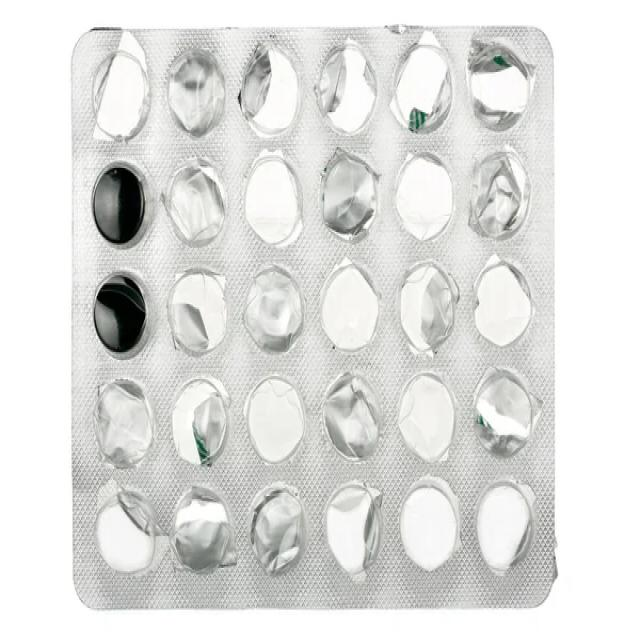Empty: (86, 46, 156, 148), (389, 37, 454, 136), (237, 40, 301, 138), (242, 151, 304, 252), (467, 39, 531, 134), (393, 259, 457, 354), (242, 262, 306, 356), (472, 256, 536, 350), (94, 488, 158, 582), (164, 45, 226, 142), (319, 260, 381, 356), (321, 484, 384, 578), (319, 371, 384, 462), (474, 367, 536, 462), (474, 481, 536, 574), (320, 150, 381, 244), (243, 372, 304, 466), (171, 483, 231, 578), (315, 47, 379, 136), (399, 481, 460, 574), (90, 380, 154, 468), (168, 270, 230, 358), (468, 154, 530, 242), (168, 158, 227, 249), (169, 379, 229, 468), (393, 157, 454, 244), (252, 485, 308, 578), (398, 374, 455, 465)
Pill: (88, 270, 154, 361), (90, 161, 152, 252)
